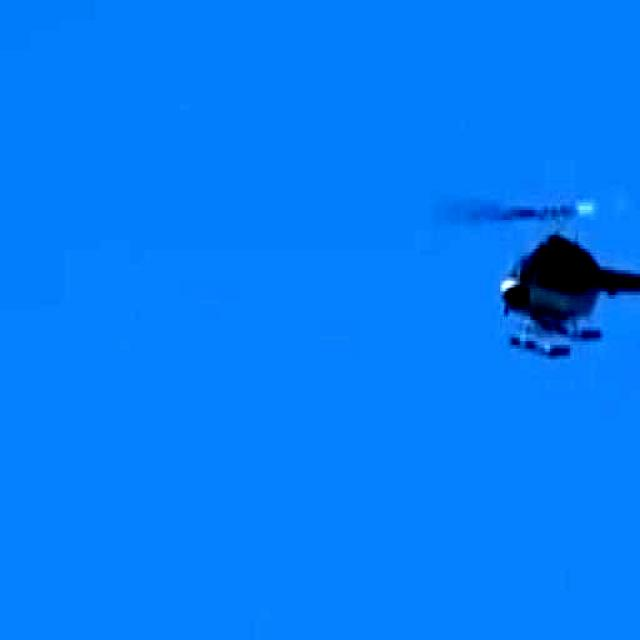drone: (479, 179, 640, 381)
